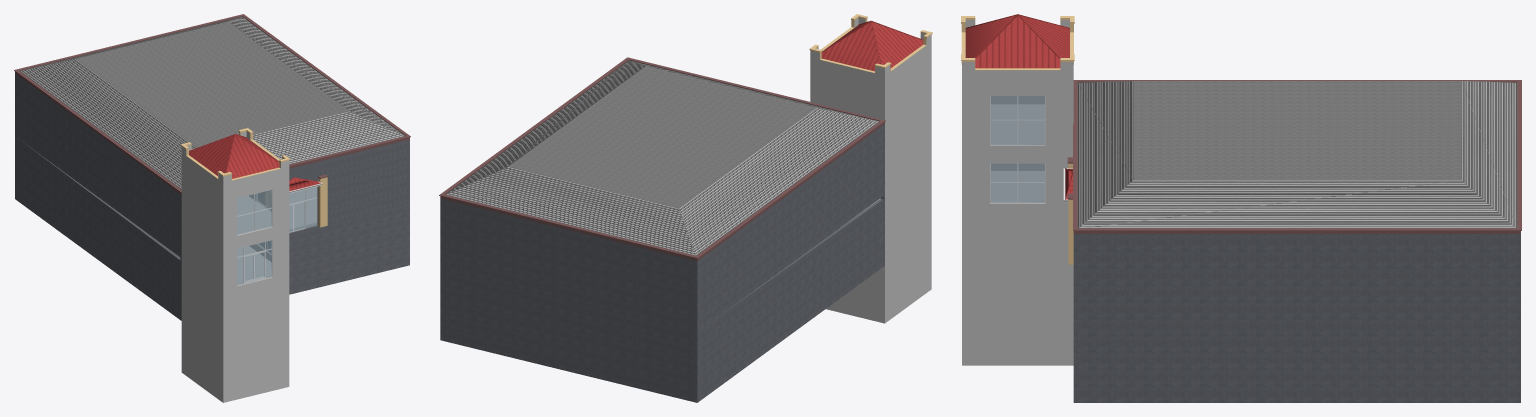
File: A23_Building07.fbx
The picture shows the model from 3 angles, left to right: view 1: azimuth 30°, elevation 25°; view 2: azimuth 150°, elevation 25°; view 3: azimuth 270°, elevation 25°; orthographic projection. The views are drawn at different scales.
Visible parts, largest first — view 1: BD1916, BD1920, BD1919, BD1658, BD1921, BD1679, BD1925, BD1684, BD1681, BD1918, BD1683, BD1932 (+5 smaller); view 2: BD1916, BD1921, BD1920, BD1919, BD1679, BD1658, BD1918, BD1684, BD1917, BD1682; view 3: BD1916, BD1921, BD1920, BD1919, BD1658, BD1679, BD1684, BD1681, BD1683, BD1918, BD1917, BD1682 (+1 smaller).
Boxes of the visible parts, x1=… form: BD1916: x1=15, y1=136, x2=409, y2=320; BD1920: x1=76, y1=22, x2=348, y2=147; BD1919: x1=20, y1=16, x2=404, y2=189; BD1658: x1=181, y1=259, x2=289, y2=402; BD1921: x1=15, y1=73, x2=180, y2=256; BD1679: x1=181, y1=131, x2=289, y2=289; BD1925: x1=180, y1=139, x2=409, y2=260; BD1684: x1=189, y1=133, x2=279, y2=178; BD1681: x1=237, y1=190, x2=271, y2=284; BD1918: x1=14, y1=14, x2=410, y2=192; BD1683: x1=237, y1=196, x2=271, y2=284; BD1932: x1=289, y1=187, x2=316, y2=231; BD1916: x1=440, y1=198, x2=884, y2=402; BD1921: x1=440, y1=125, x2=883, y2=331; BD1920: x1=509, y1=66, x2=815, y2=208; BD1919: x1=445, y1=60, x2=879, y2=255; BD1679: x1=810, y1=18, x2=931, y2=195; BD1658: x1=826, y1=162, x2=931, y2=323; BD1918: x1=439, y1=57, x2=885, y2=258; BD1684: x1=821, y1=20, x2=923, y2=71; BD1917: x1=440, y1=122, x2=884, y2=261; BD1682: x1=809, y1=14, x2=932, y2=73; BD1916: x1=1073, y1=318, x2=1520, y2=402; BD1921: x1=1077, y1=234, x2=1520, y2=318; BD1920: x1=1133, y1=81, x2=1461, y2=180; BD1919: x1=1077, y1=81, x2=1517, y2=228; BD1658: x1=962, y1=213, x2=1073, y2=365; BD1679: x1=962, y1=20, x2=1073, y2=213; BD1684: x1=965, y1=14, x2=1069, y2=68; BD1681: x1=991, y1=95, x2=1044, y2=201; BD1683: x1=991, y1=104, x2=1044, y2=201; BD1918: x1=1073, y1=80, x2=1521, y2=230; BD1917: x1=1073, y1=231, x2=1520, y2=233; BD1682: x1=961, y1=16, x2=1074, y2=70.
Bounding box in the file's own units: 19.1 × 19.54 × 30.1.
